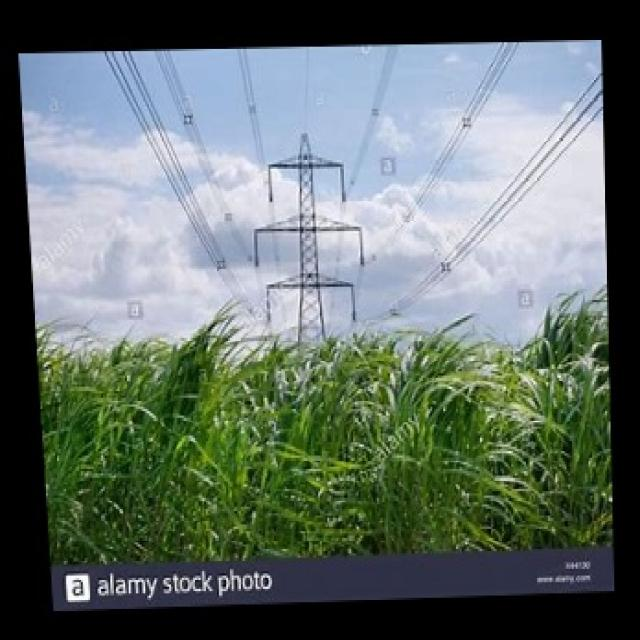utility poles: (237, 115, 387, 552)
